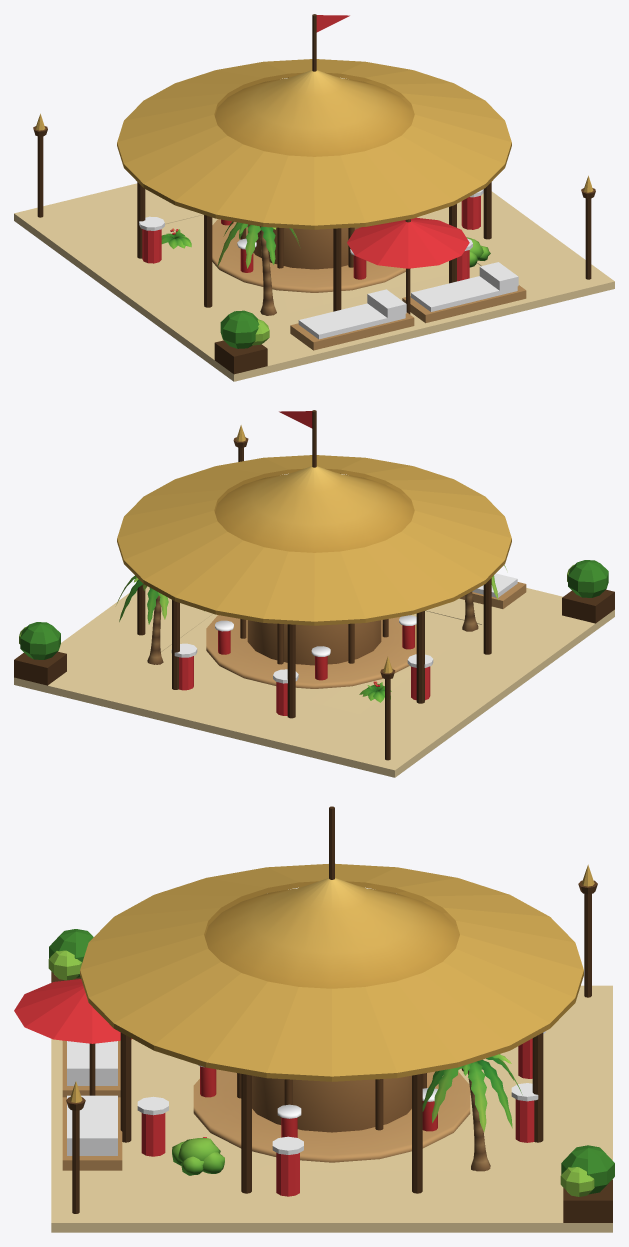
The model's file is BeachBar_L3.obj.
The picture shows the model from 3 angles, top to bottom: view 1: azimuth 30°, elevation 25°; view 2: azimuth 150°, elevation 25°; view 3: azimuth 270°, elevation 25°; orthographic projection. The views are drawn at different scales.
Parts seen in each view (by area): view 1: BeachBar_L3; view 2: BeachBar_L3; view 3: BeachBar_L3.
Boxes of the visible parts, bbox=[...] form: BeachBar_L3: bbox=[14, 14, 614, 381]; BeachBar_L3: bbox=[14, 410, 614, 777]; BeachBar_L3: bbox=[14, 806, 614, 1232].
Size of the model in its own units: 6.95 by 4.09 by 7.28.
Materials: 1 (1 with a texture image).
